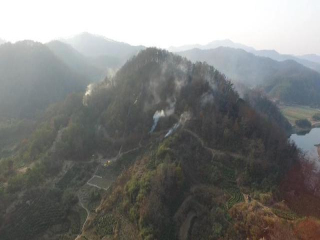smoke: (141, 54, 210, 141)
